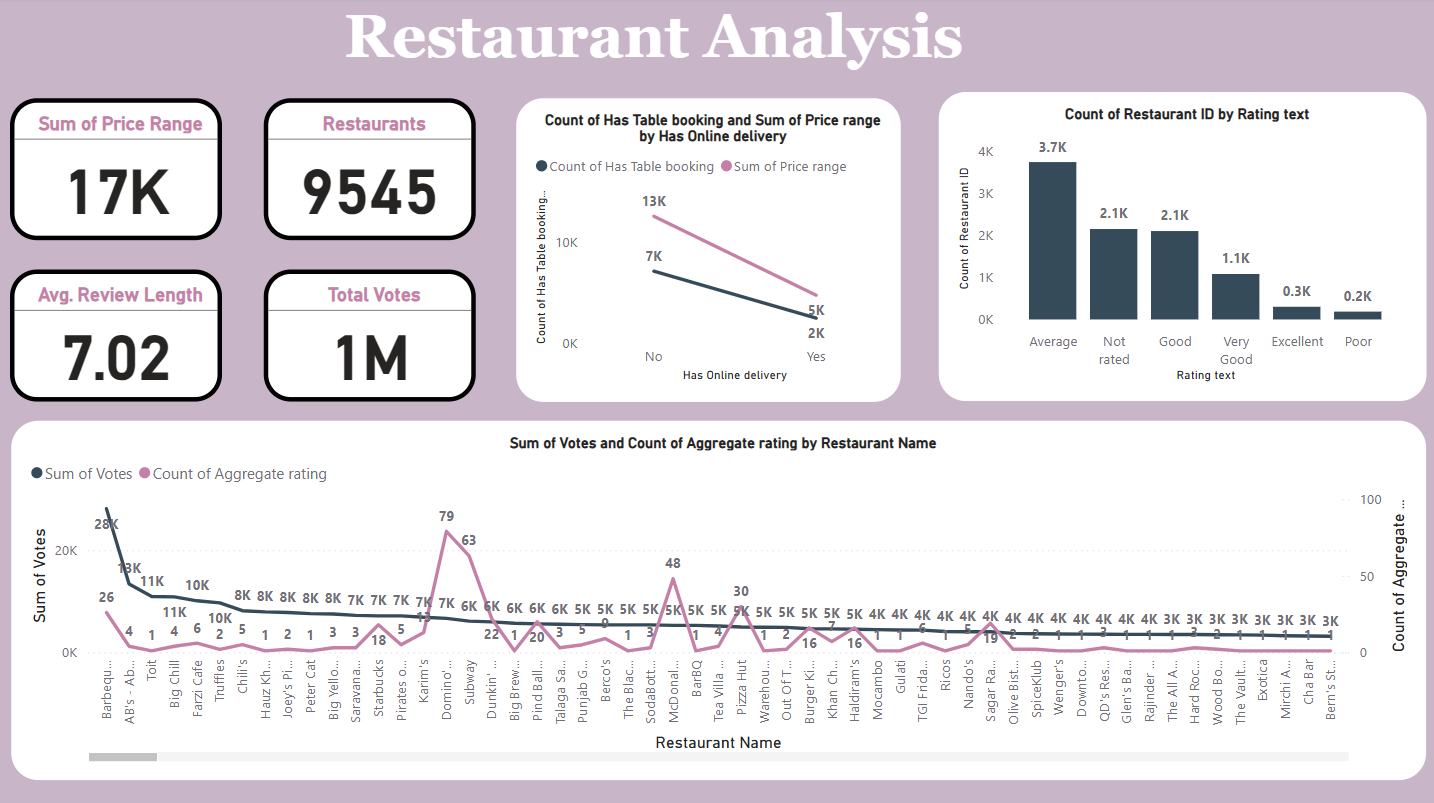

This screenshot's page, from the dashboard's own definition file:
{"tool":"powerbi","page":{"name":"Intrroduction","canvas":[1280,720],"ordinal":0},"visuals":[{"type":"lineChart","fields":{"Category":["Dataset.Restaurant Name"],"Y":["Sum(Dataset.Votes)"],"Y2":["CountNonNull(Dataset.Aggregate rating)"]},"box":[10,377.8,1260,320],"z":0},{"type":"textbox","box":[8.9,0,1146.7,124.4],"z":1000},{"type":"lineChart","fields":{"Category":["Dataset.Has Online delivery"],"Y":["CountNonNull(Dataset.Has Table booking)","Sum(Dataset.Price range)"]},"box":[460,90,342.2,270],"z":2000},{"type":"columnChart","fields":{"Category":["Dataset.Rating text"],"Y":["CountNonNull(Dataset.Restaurant ID)"]},"box":[835.6,84.4,434.4,275.6],"z":3000},{"type":"card","title":"Restaurants","fields":{"Values":["CountNonNull(Dataset.Restaurant ID)"]},"box":[234.4,90,188.9,126.7],"z":4000},{"type":"card","title":"Sum of Price Range","fields":{"Values":["Sum(Dataset.Price range)"]},"box":[8.9,90,188.9,126.7],"z":5000},{"type":"card","title":"Total Votes","fields":{"Values":["Sum(Dataset.Votes)"]},"box":[234.4,242.2,188.9,117.8],"z":6000},{"type":"card","title":"Avg. Review Length","fields":{"Values":["Avg(Dataset.ReviewLength)"]},"box":[8.9,242.2,188.9,117.8],"z":7000}]}

Visuals, with their boxes in screenshot pixels (x1, y1, x2, y2), scaled from the page's 1280x720 canvas onto the 1434x803 screenshot:
lineChart - Dataset.Restaurant Name x Sum(Dataset.Votes): rect(11, 421, 1423, 778)
textbox: rect(10, 0, 1295, 139)
lineChart - Dataset.Has Online delivery x CountNonNull(Dataset.Has Table booking): rect(515, 100, 899, 402)
columnChart - Dataset.Rating text x CountNonNull(Dataset.Restaurant ID): rect(936, 94, 1423, 402)
"Restaurants" card: rect(263, 100, 474, 242)
"Sum of Price Range" card: rect(10, 100, 222, 242)
"Total Votes" card: rect(263, 270, 474, 402)
"Avg. Review Length" card: rect(10, 270, 222, 402)
